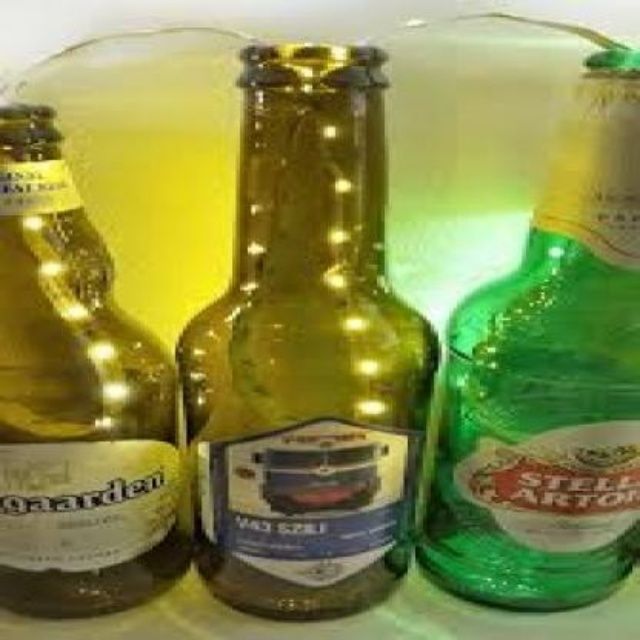trash: (177, 45, 435, 618), (418, 77, 638, 609), (0, 103, 191, 617)
